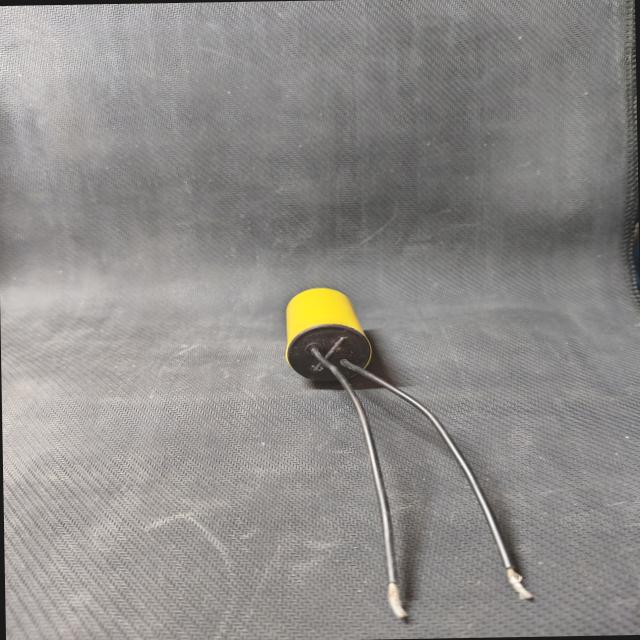capacitor: (276, 276, 544, 625)
